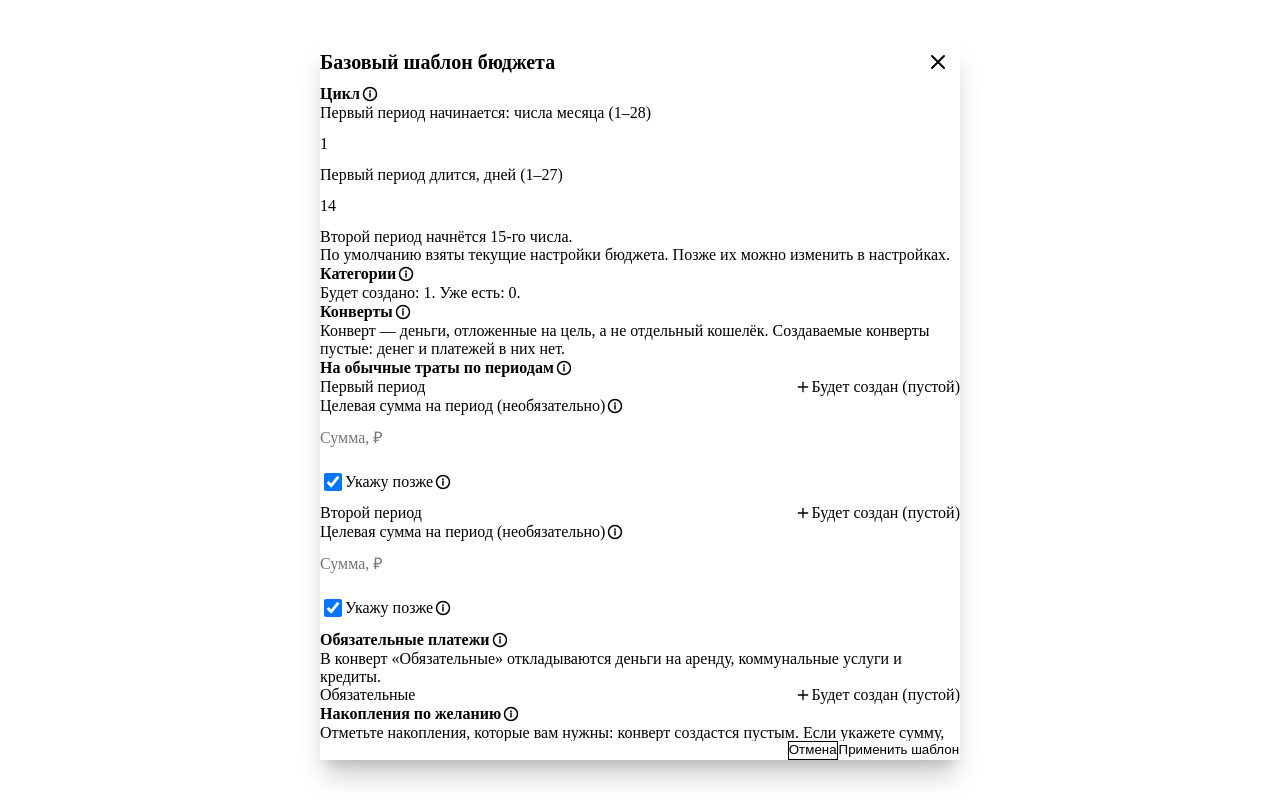
Test: TemplatePreviewSheet review fixes › rejects target "0,00"
The width and height of the screenshot is (1280, 800).
Type "0,00" into the field with test id "template-target-FIRST". click: (640, 438)
box: [320, 416, 960, 460]
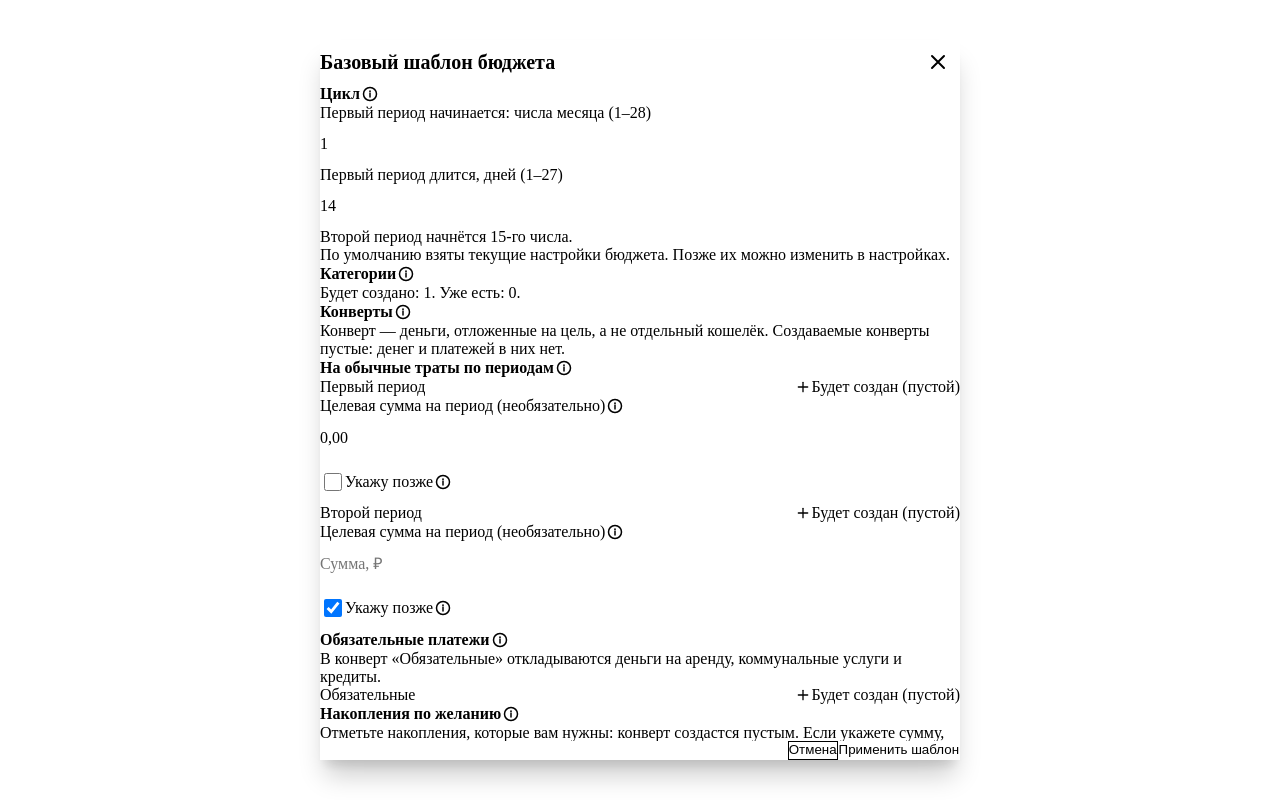
Click the button with test id "template-apply". click: (899, 751)
box: [838, 741, 960, 760]
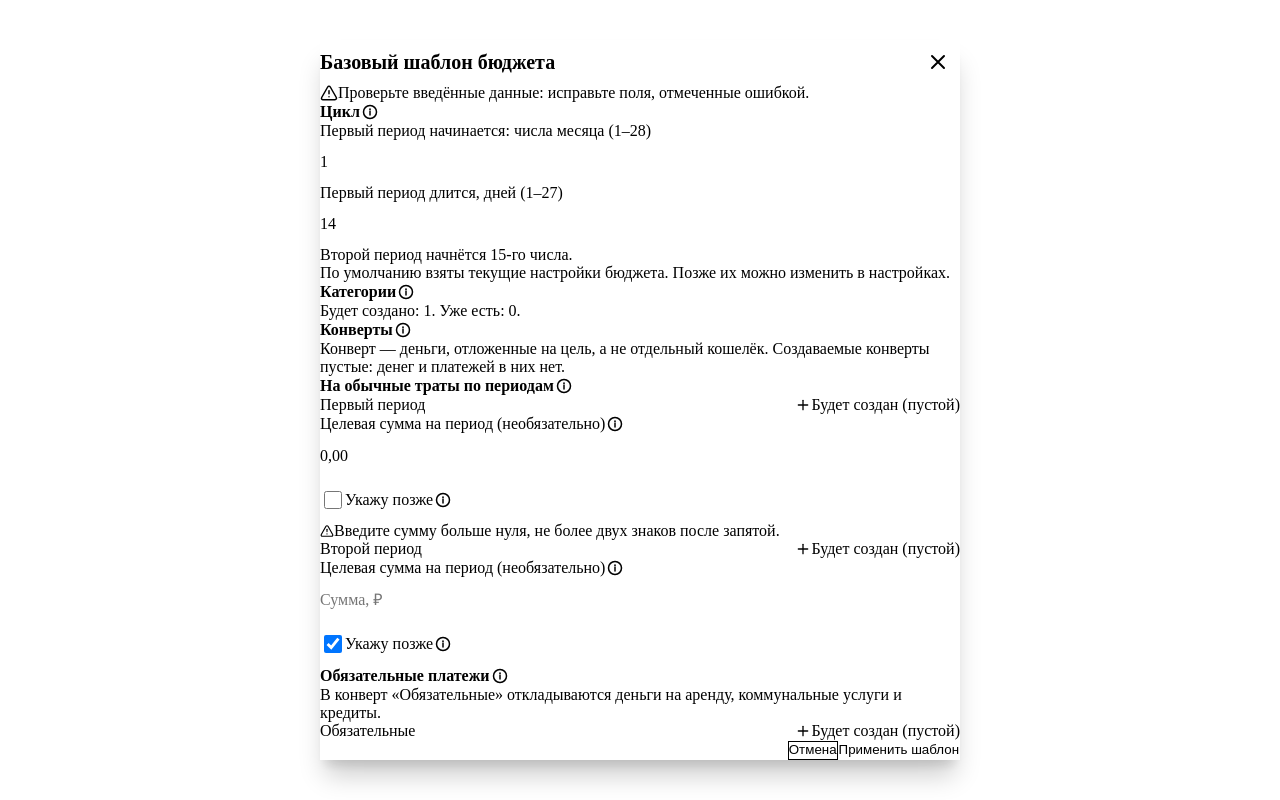
Expected: the element with test id "template-error-FIRST" is shown, [320, 522, 780, 539]
